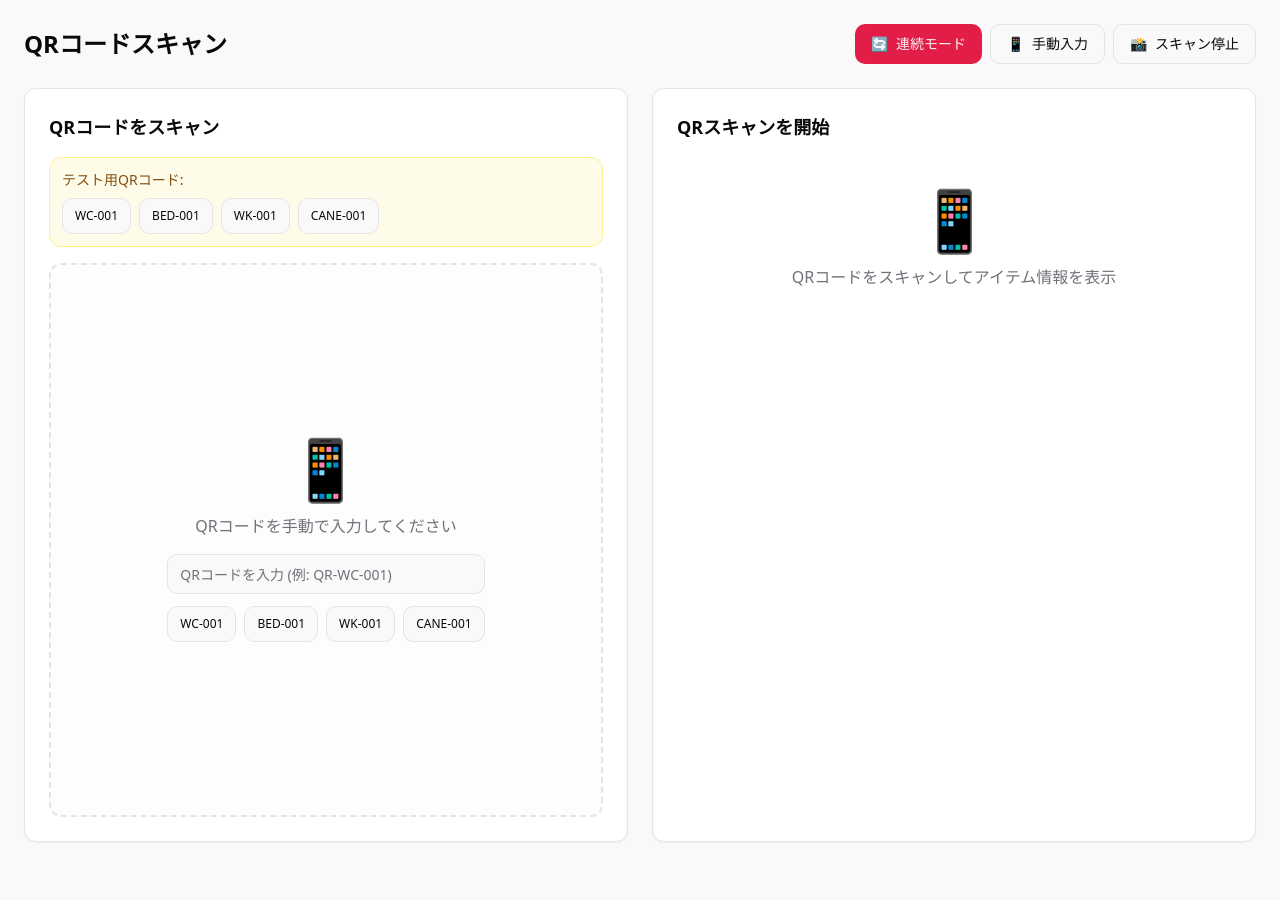
Test case: QRスキャン画面（デスクトップ） › 管理番号を入力して操作を選ぶと、ダイアログのボタンが1つだけになる
In the field with placeholder "QRコードを入力 (例: QR-WC-001)": [326, 574] box [167,554,485,594], type "WC-003"
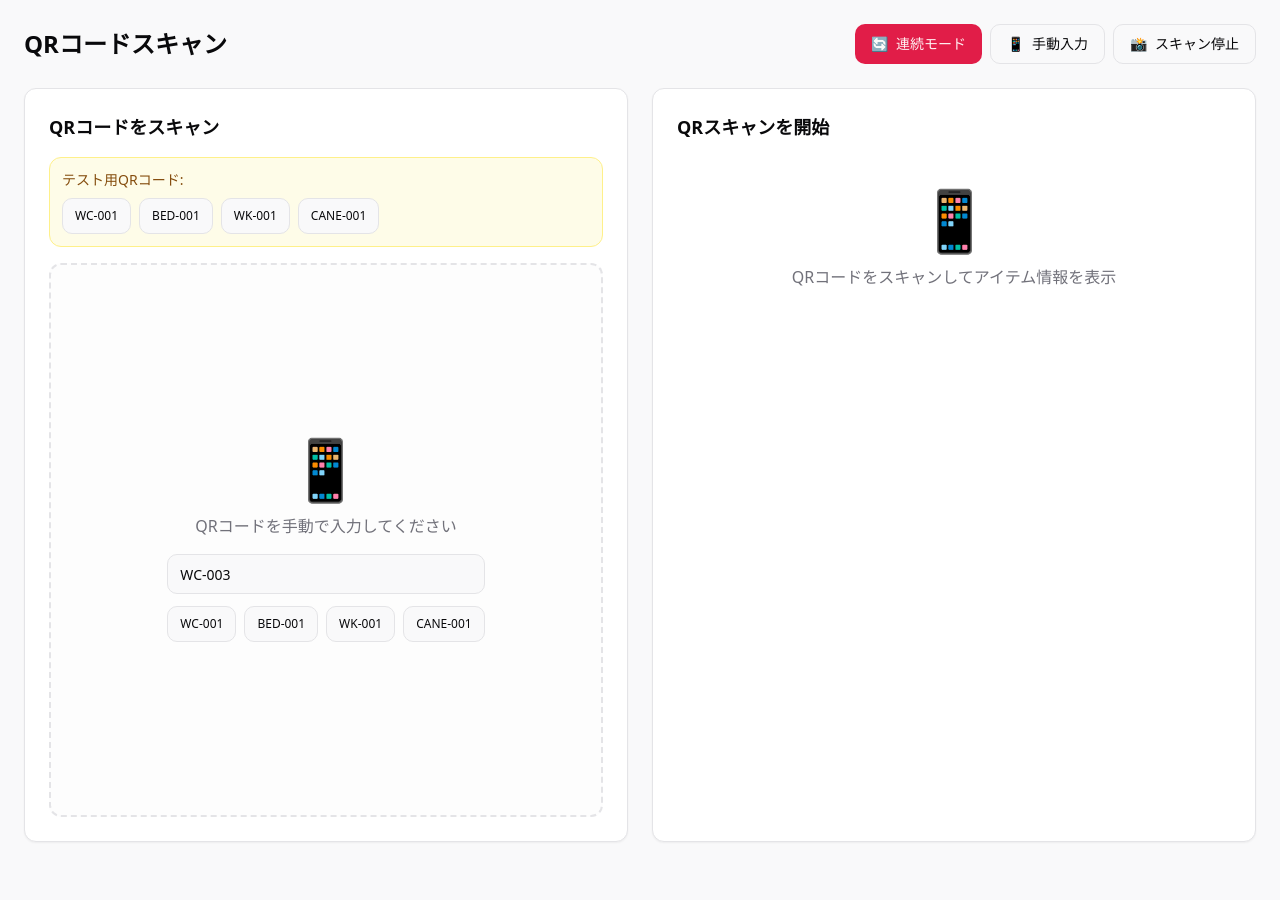
Press Enter in the field with placeholder "QRコードを入力 (例: QR-WC-001)", box [167,554,485,594]
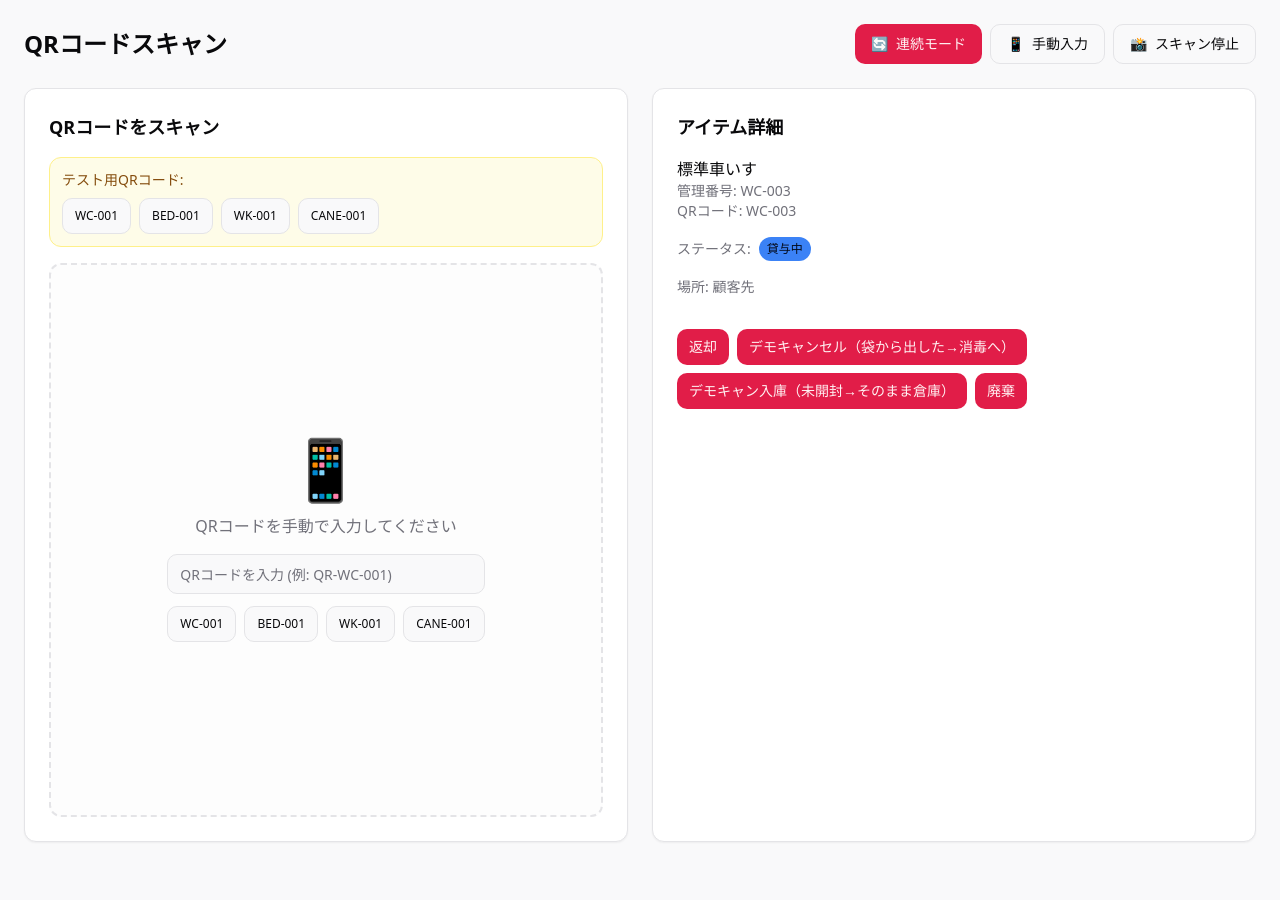
Click the button "返却": [703, 347] box [677,329,729,365]
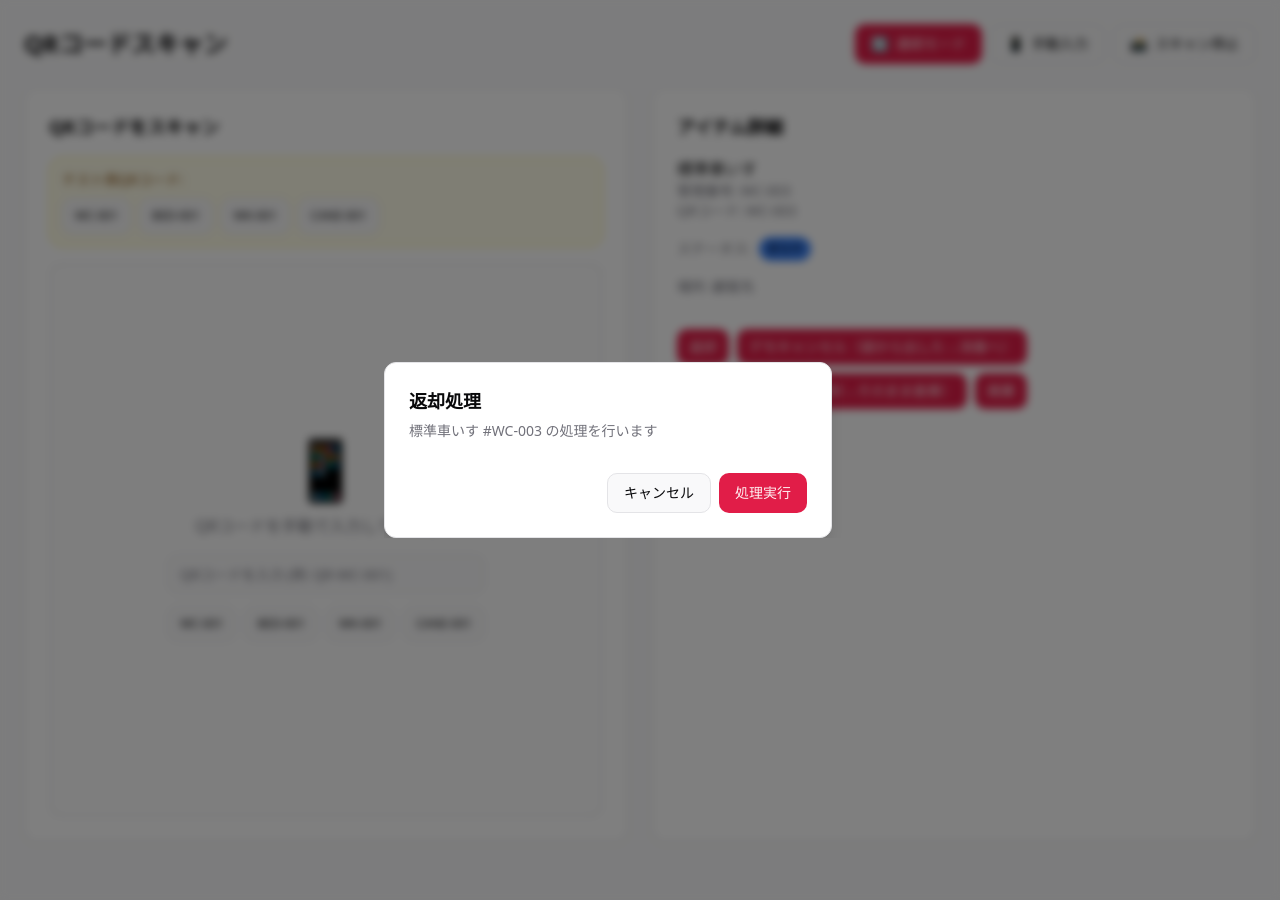
Check: the number of buttons "処理実行" is 1, box [719,473,807,513]
Check: the number of buttons "キャンセル" is 1, box [607,473,711,513]
